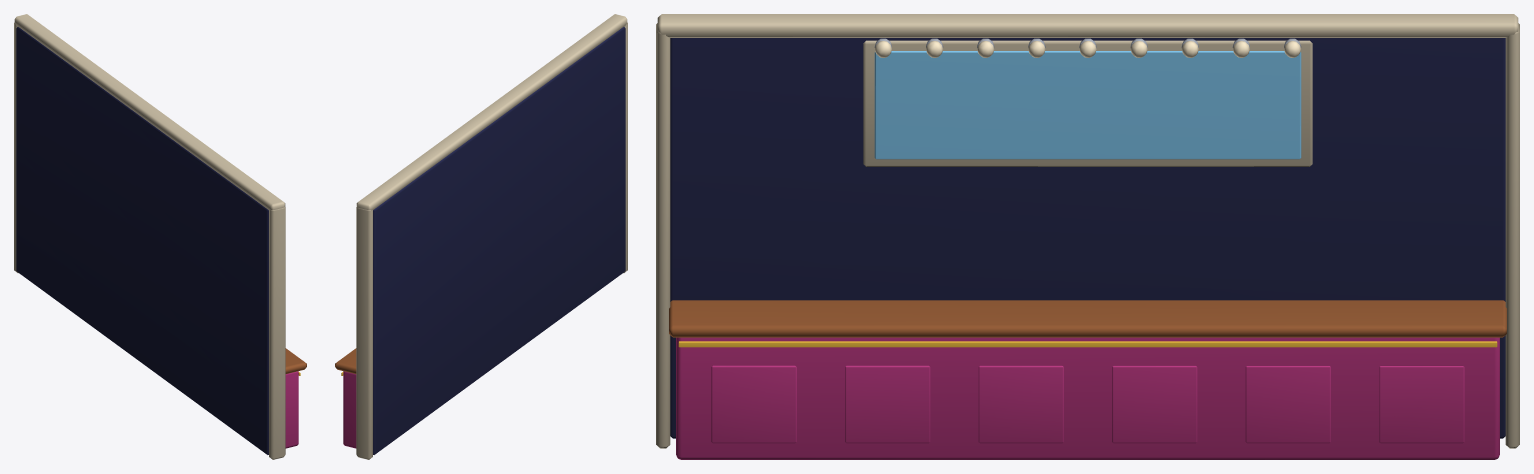
The model's file is SM_Wardrobe_AccessoryWall.fbx.
3 renders of one model, left to right at view 1: azimuth 30°, elevation 25°; view 2: azimuth 150°, elevation 25°; view 3: azimuth 270°, elevation 25°, orthographic. The views are drawn at different scales.
Parts seen in each view (by area): view 1: SM_Wardrobe_AccessoryWall; view 2: SM_Wardrobe_AccessoryWall; view 3: SM_Wardrobe_AccessoryWall.
Boxes of the visible parts, x1,y1,x2,y2 form: SM_Wardrobe_AccessoryWall: (14,14,306,459); SM_Wardrobe_AccessoryWall: (335,14,627,459); SM_Wardrobe_AccessoryWall: (656,14,1519,459).
Size of the model in its own units: 56.05 by 331 by 608.
